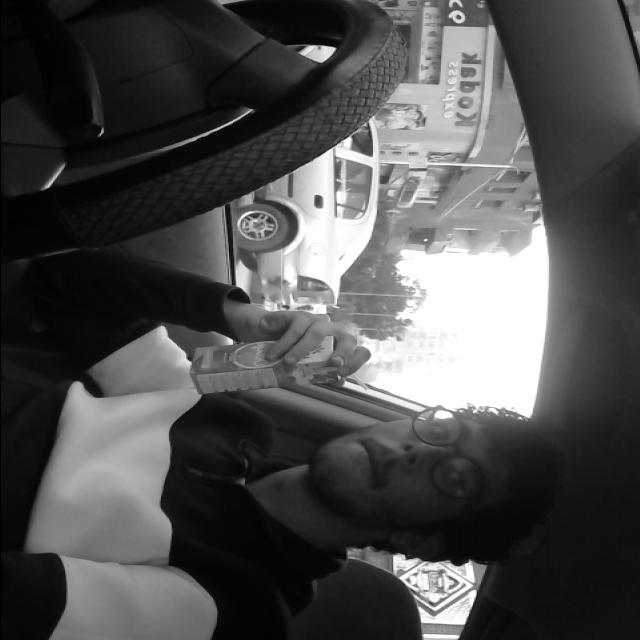drinking: (187, 330, 373, 400)
